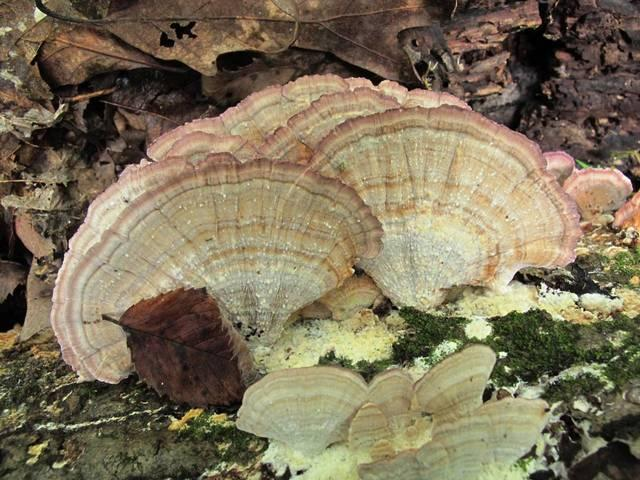Non-edible Mushroom: (61, 67, 640, 480)
